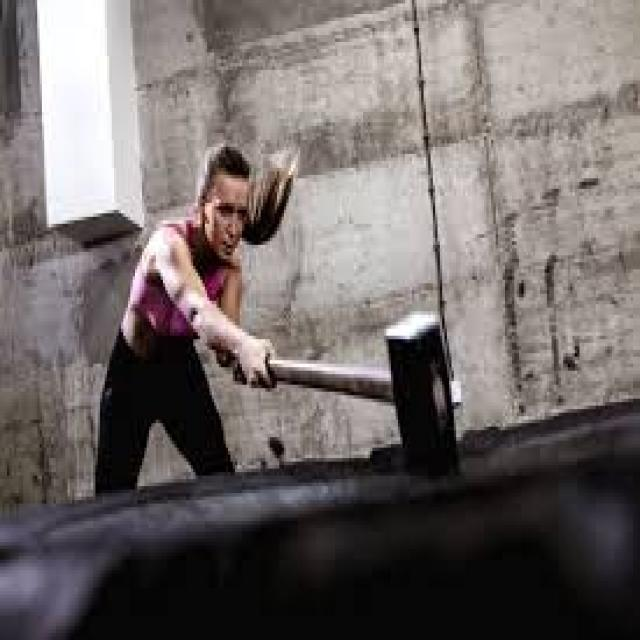hammer: (224, 286, 471, 486)
